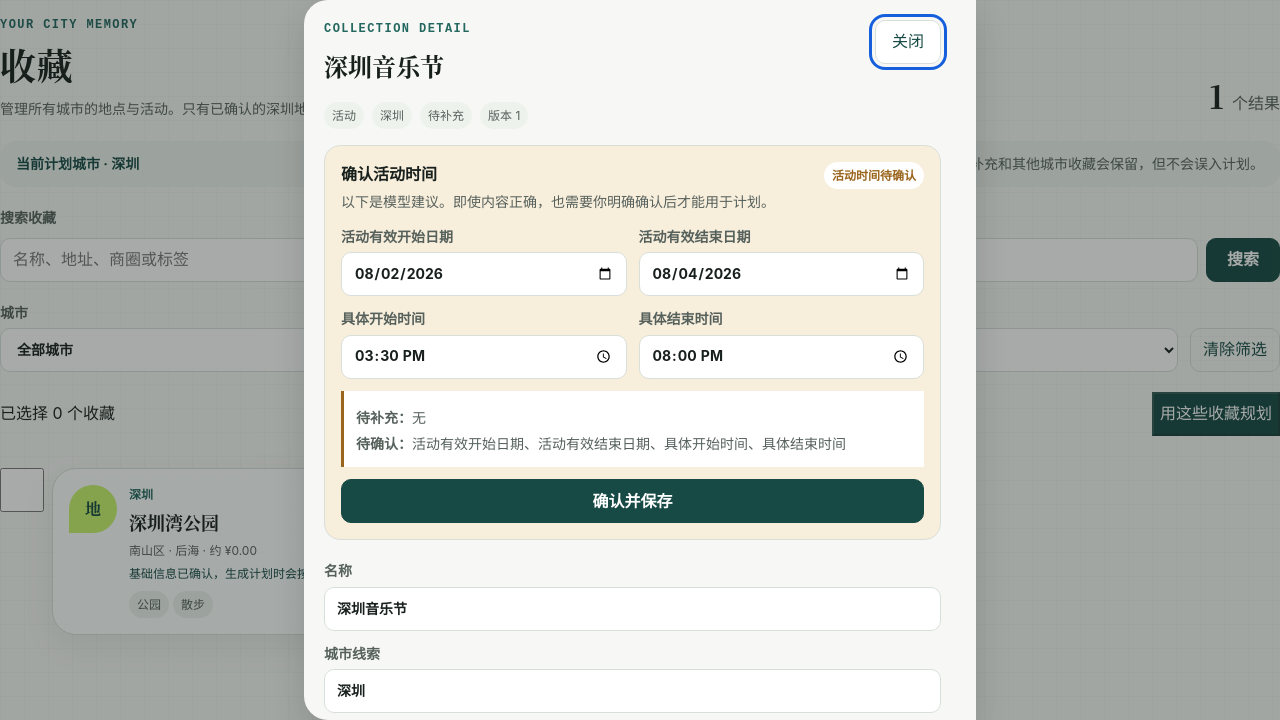
Test: CollectionsExperience › rejects an effective-range edit that excludes an existing exact session
Type "2026-08-03" into the date field labelled "活动有效开始日期" at (484, 274), box x1=341 y1=252 x2=626 y2=296
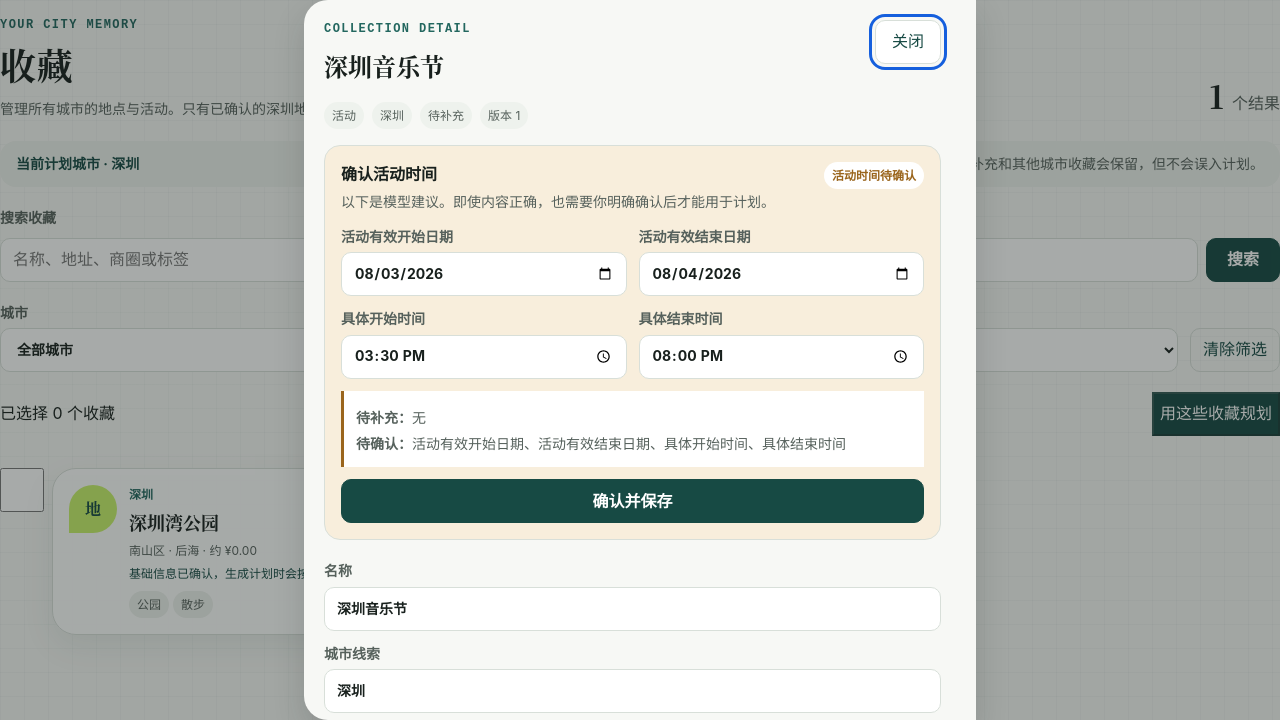
Click the button "确认并保存" at (632, 501), box x1=341 y1=479 x2=924 y2=523
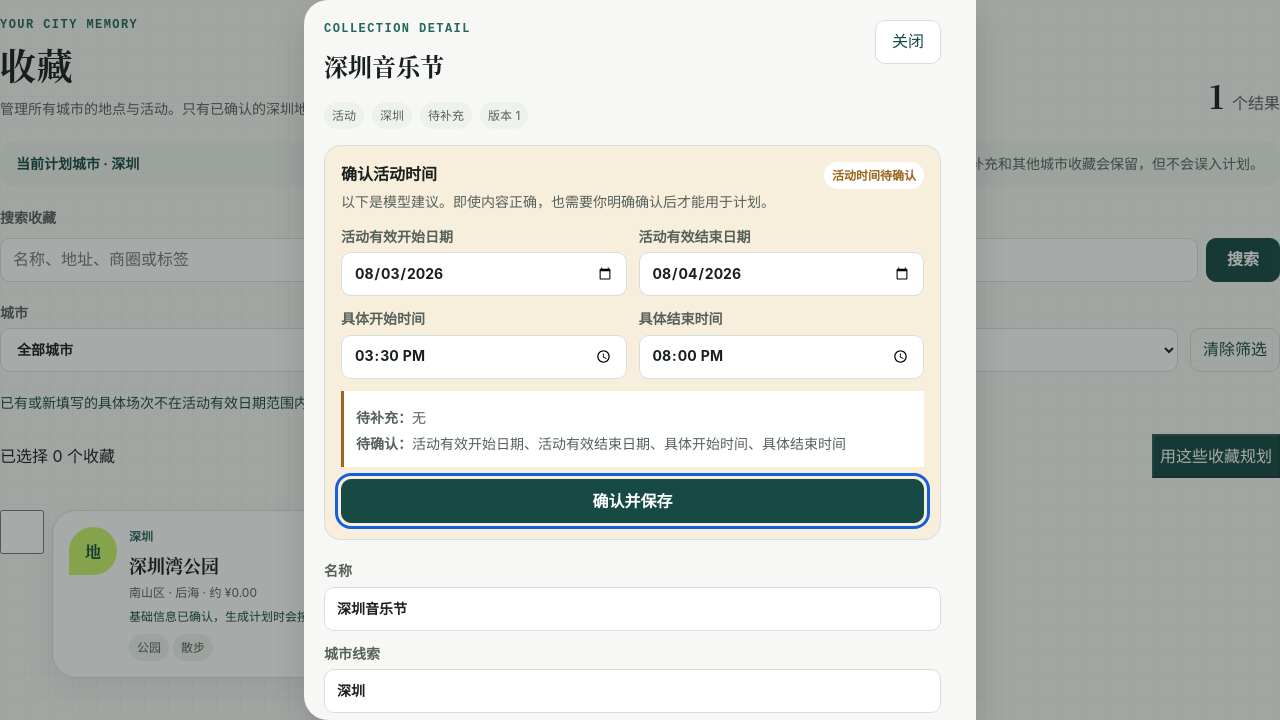
Check: the text "已有或新填写的具体场次不在活动有效日期范围内，请调整有效范围，或清空后重新填写具体场次。" is shown, box x1=0 y1=394 x2=616 y2=411
